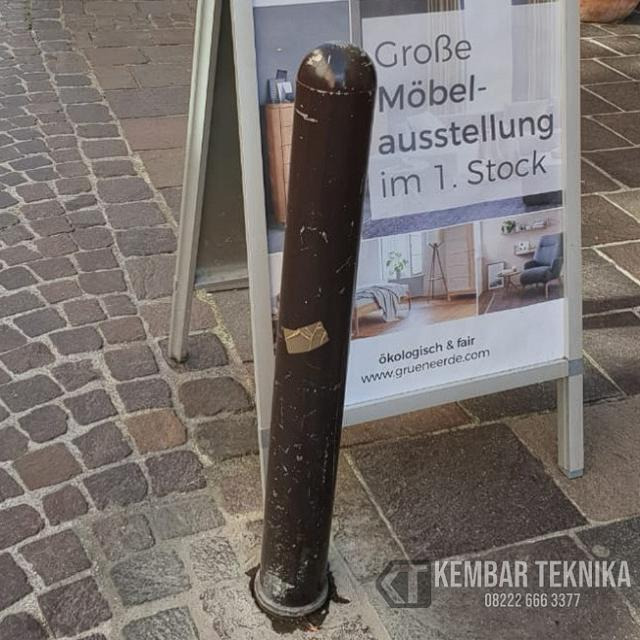Bollard: (263, 37, 375, 615)
